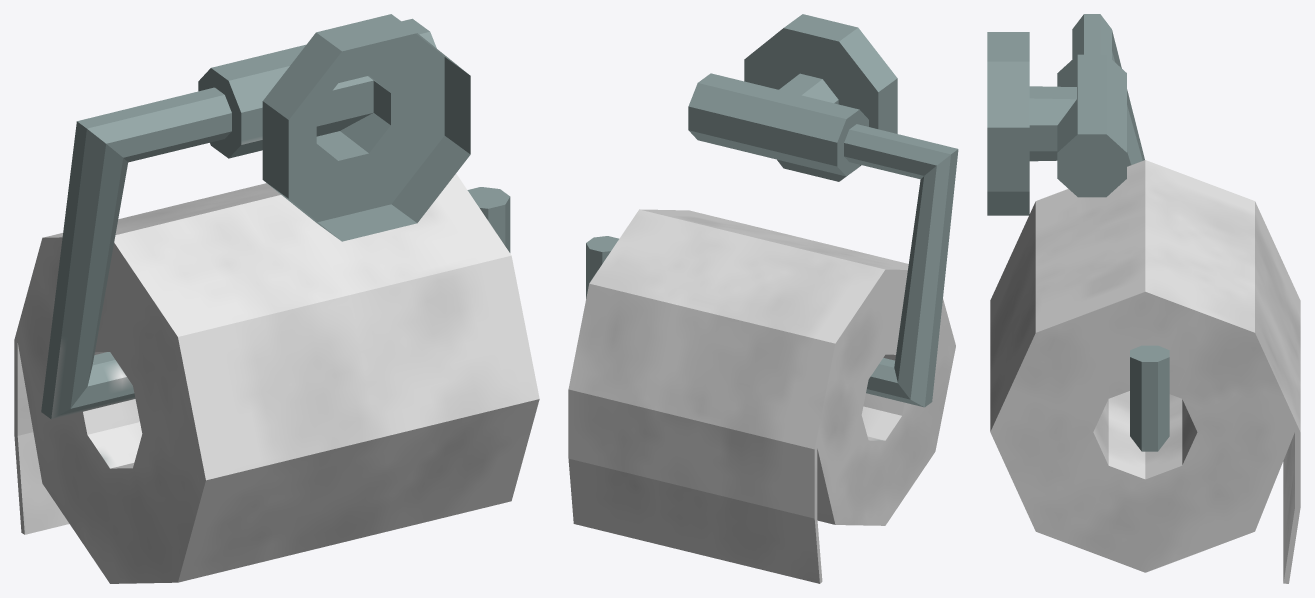
File: toilet papper holer.fbx
3 views of the same model, side by side, from view 1: azimuth 30°, elevation 25°; view 2: azimuth 150°, elevation 25°; view 3: azimuth 270°, elevation 25° (orthographic). The views are drawn at different scales.
Visible parts, largest first — view 1: Toilet papper Holder; view 2: Toilet papper Holder; view 3: Toilet papper Holder.
Boxes of the visible parts, x1=… form: Toilet papper Holder: x1=14, y1=14, x2=539, y2=583; Toilet papper Holder: x1=568, y1=14, x2=958, y2=583; Toilet papper Holder: x1=987, y1=14, x2=1300, y2=583.
Size of the model in its own units: 14.14 by 17.22 by 10.32.
Materials: 1 (1 with a texture image).
